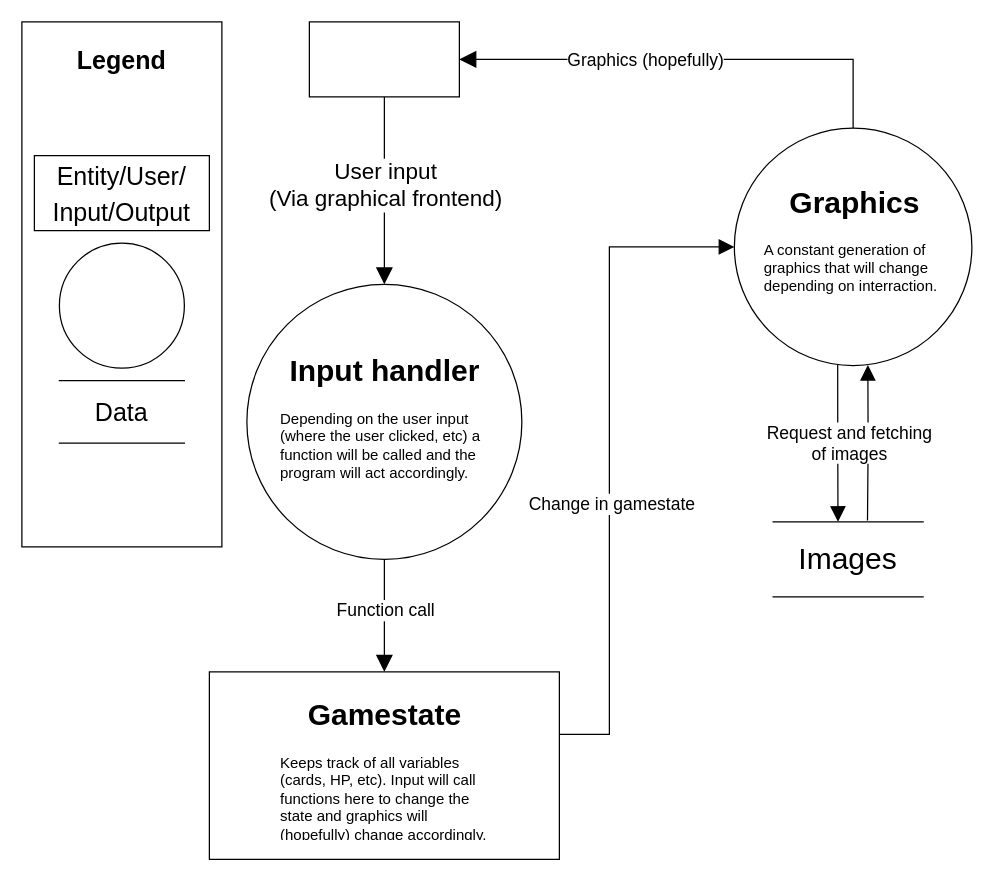
Some shapes in this 994 by 881 pixel diagram are drawn without their labels. Each missing label, with the centre of its shape:
"Process" belongs at (x=121, y=305).
"User" belongs at (x=383, y=59).
